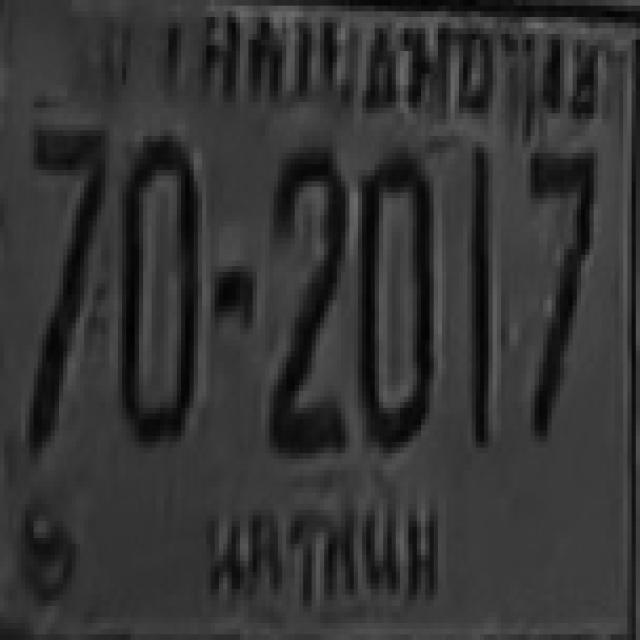0: (118, 133, 198, 439), (356, 144, 432, 444)
2: (266, 201, 346, 450), (270, 144, 346, 405)
7: (526, 147, 594, 430), (30, 125, 106, 351), (30, 124, 106, 306)
NakhonPhanom: (185, 481, 452, 620)
